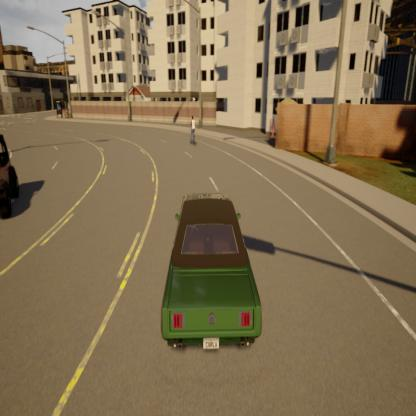Cars: (154, 186, 274, 369), (0, 128, 30, 226)
